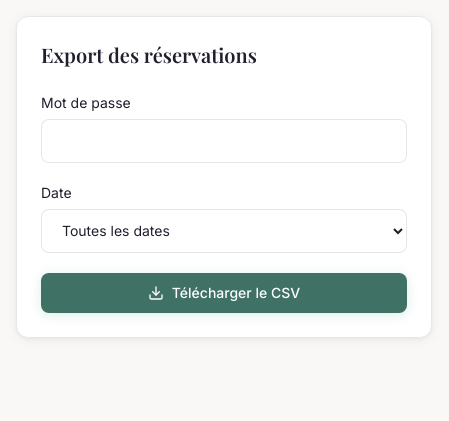
status 401 shows « Mot de passe incorrect »
Step 1. Type "a-very-secret-admin-token-of-32-chars!!" into the password field labelled "Mot de passe" → {"x": 224, "y": 140}, box [41,118,407,162]
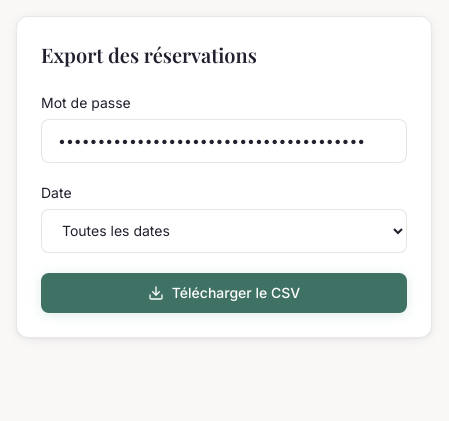
Step 2. Select "Toutes les dates" in the dropdown labelled "Date" → {"x": 224, "y": 230}, box [41,208,407,252]
Step 3. Click the button "Télécharger le CSV" → {"x": 224, "y": 292}, box [41,272,407,312]
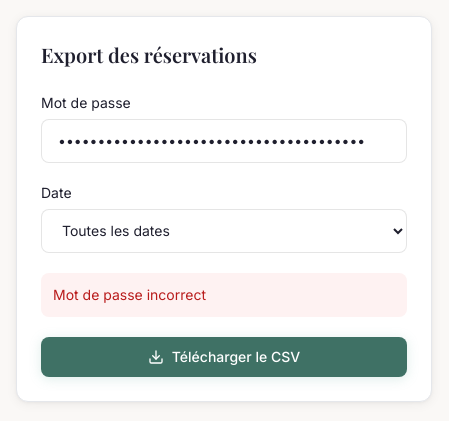
Expected: the message reads "Mot de passe incorrect", [53,286,206,302]
